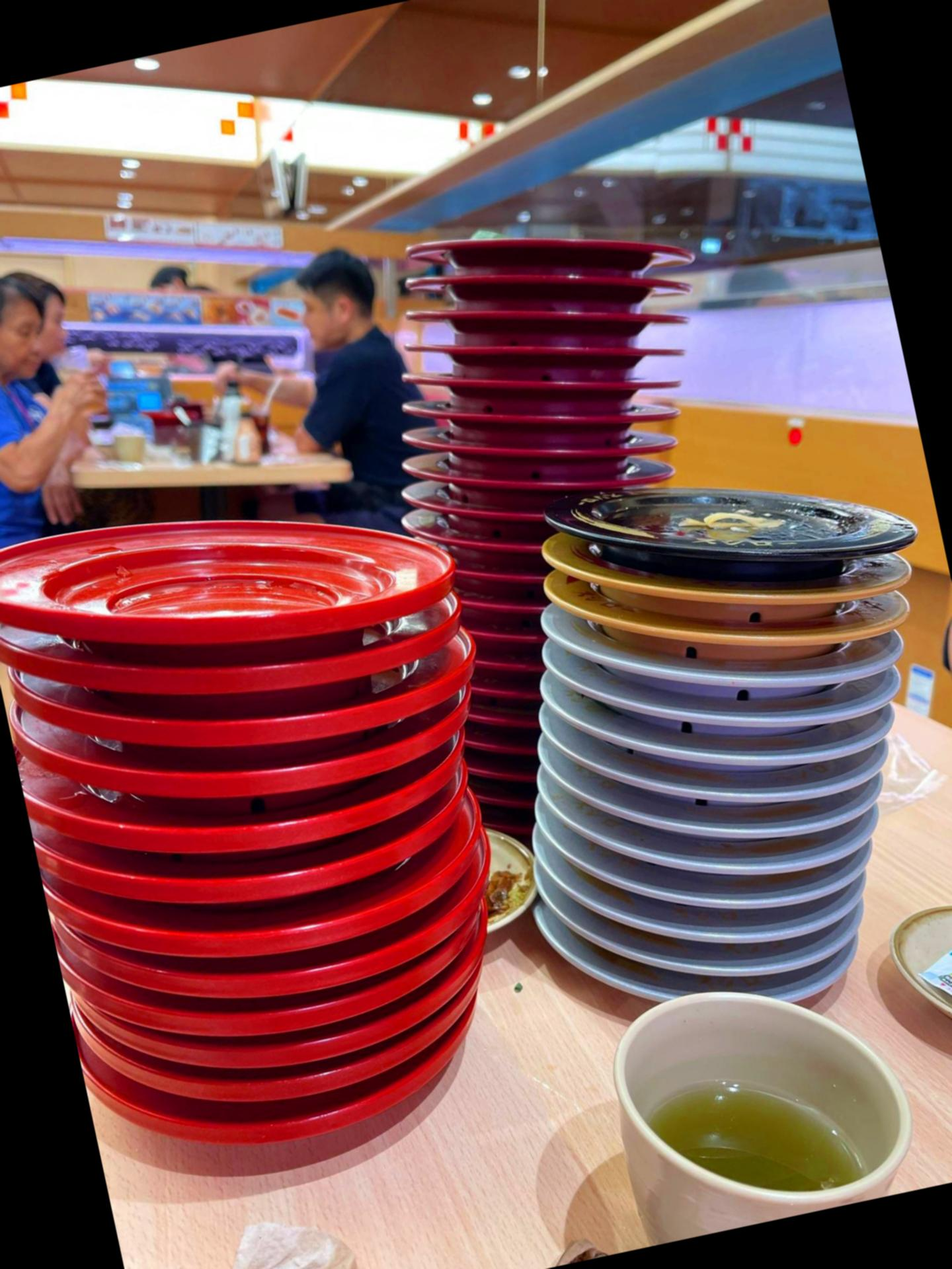Janback: (592, 474, 810, 565), (686, 523, 816, 582), (812, 486, 906, 559)
Jangold: (680, 573, 832, 640), (777, 610, 867, 656), (574, 564, 664, 608), (862, 566, 917, 631), (612, 609, 681, 647)
Janred: (399, 192, 655, 278), (492, 286, 644, 351), (441, 416, 574, 487), (459, 250, 602, 316), (496, 358, 622, 425), (429, 329, 544, 390), (443, 476, 551, 538), (455, 529, 537, 581), (468, 590, 542, 637), (484, 653, 544, 692), (477, 710, 538, 748), (476, 567, 539, 601), (480, 621, 535, 658), (481, 753, 533, 792), (481, 686, 533, 723), (490, 788, 531, 821)
Janwhite: (564, 855, 712, 959), (745, 684, 905, 745), (549, 633, 610, 766), (755, 724, 905, 775), (749, 649, 887, 704), (615, 720, 736, 781), (757, 757, 898, 809), (596, 818, 711, 881), (762, 796, 904, 844), (748, 836, 872, 886), (746, 897, 872, 946), (737, 930, 864, 978), (607, 754, 705, 814), (751, 866, 872, 913), (619, 657, 726, 710), (618, 690, 723, 743), (610, 793, 715, 844), (589, 949, 669, 1010), (763, 960, 859, 1001), (671, 941, 742, 984)
